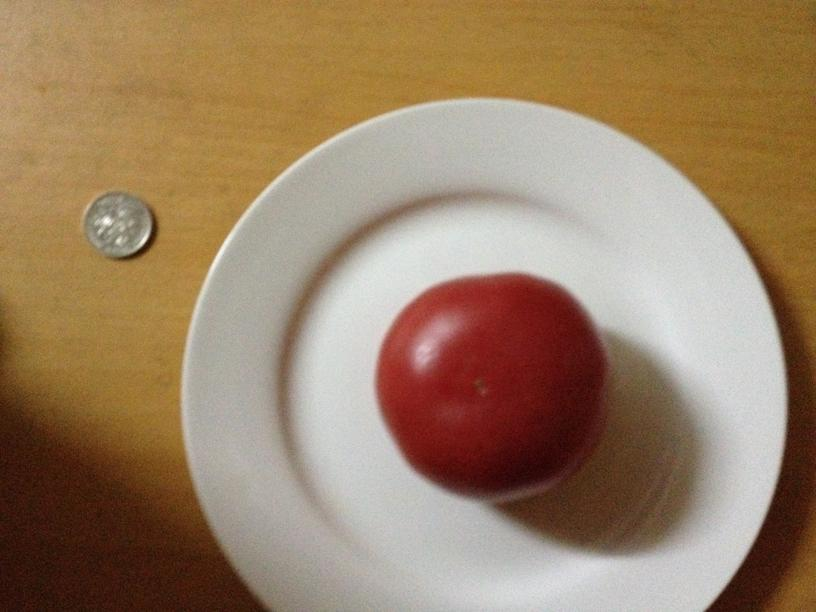coin: (82, 191, 152, 258)
tomato: (373, 267, 610, 505)
